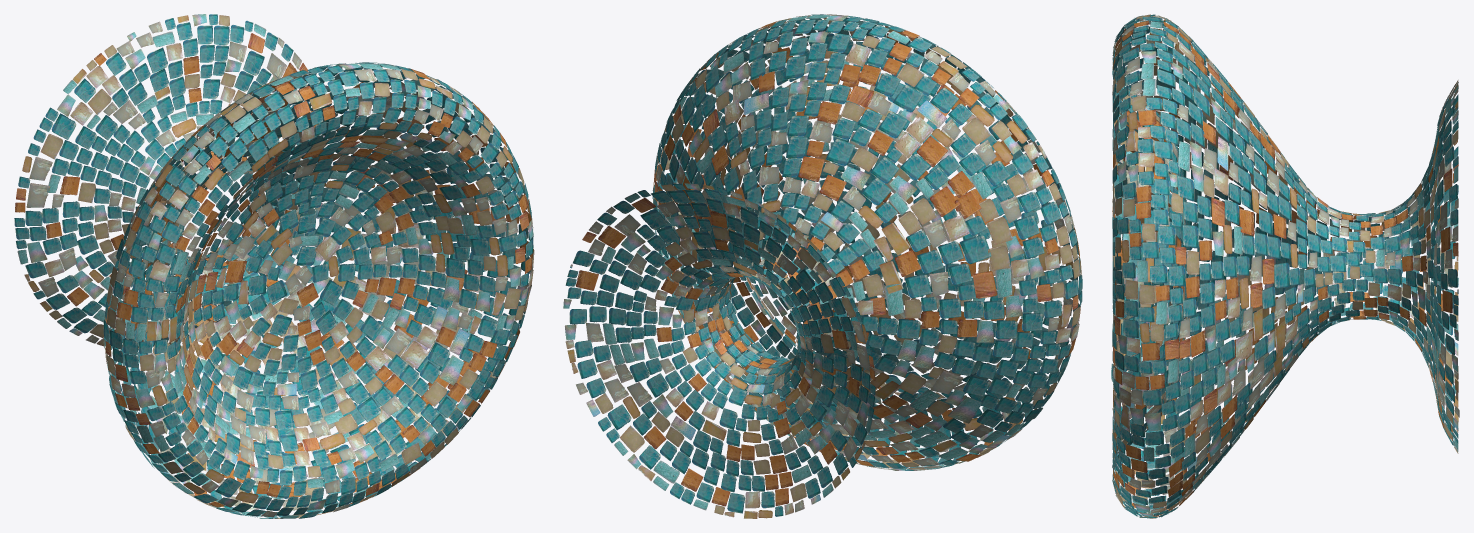
The model's file is tiles.obj.
The picture shows the model from 3 angles, left to right: view 1: azimuth 30°, elevation 25°; view 2: azimuth 150°, elevation 25°; view 3: azimuth 270°, elevation 25°; orthographic projection. The views are drawn at different scales.
Bounding box in the file's own units: 53.86 × 53.87 × 37.13.
Materials: 13 (13 with a texture image).
